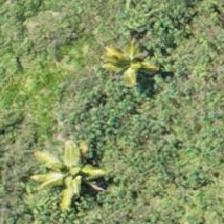coconut_tree: (96, 13, 186, 103), (46, 87, 136, 177)
